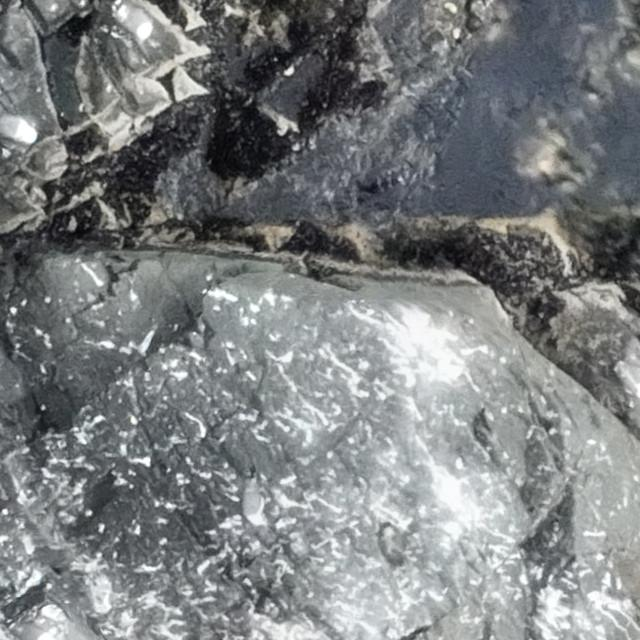umineko: (115, 2, 154, 40), (244, 474, 270, 528), (1, 113, 38, 142)
